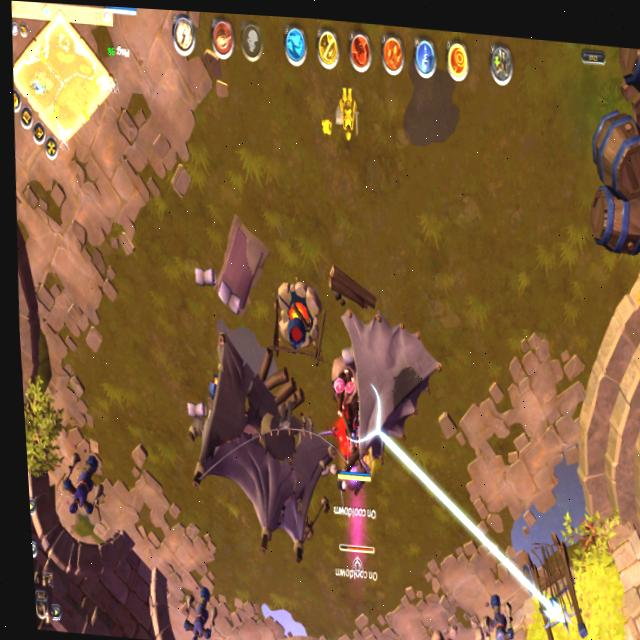ore: (328, 441, 387, 583)
red: (333, 415, 375, 486)
